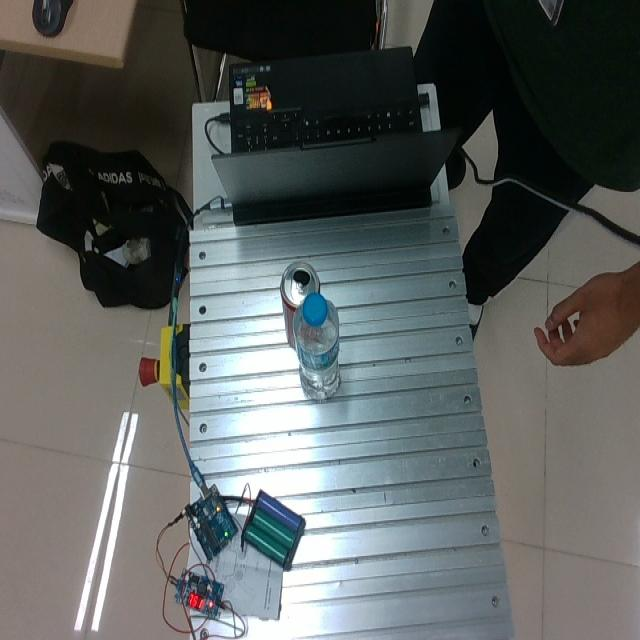coca: (279, 260, 320, 353)
lavie: (292, 291, 341, 400)
